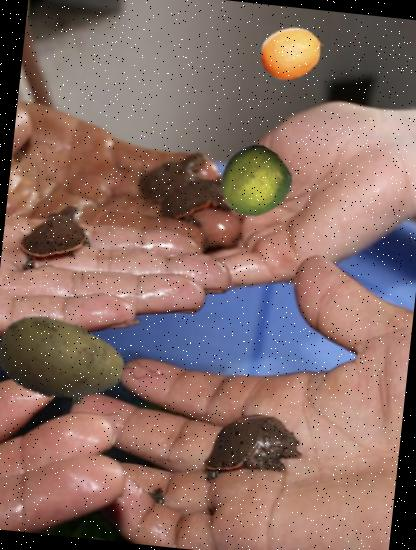Lemon: (258, 18, 326, 88)
Limes: (216, 143, 294, 222)
Potato: (0, 288, 132, 432)
